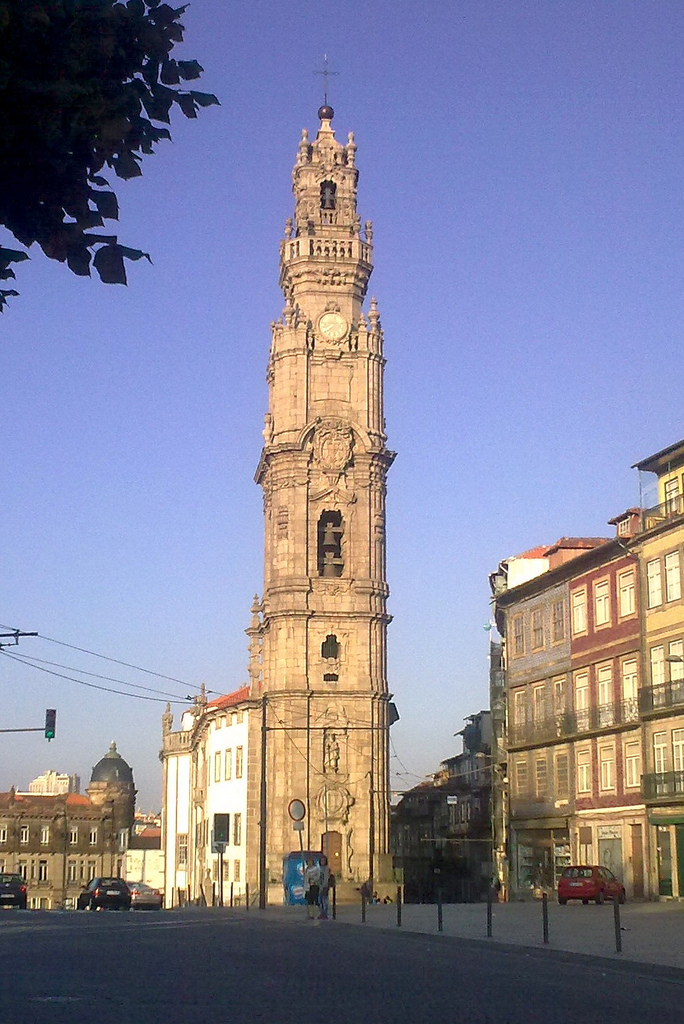clerigos: (242, 45, 399, 889)
